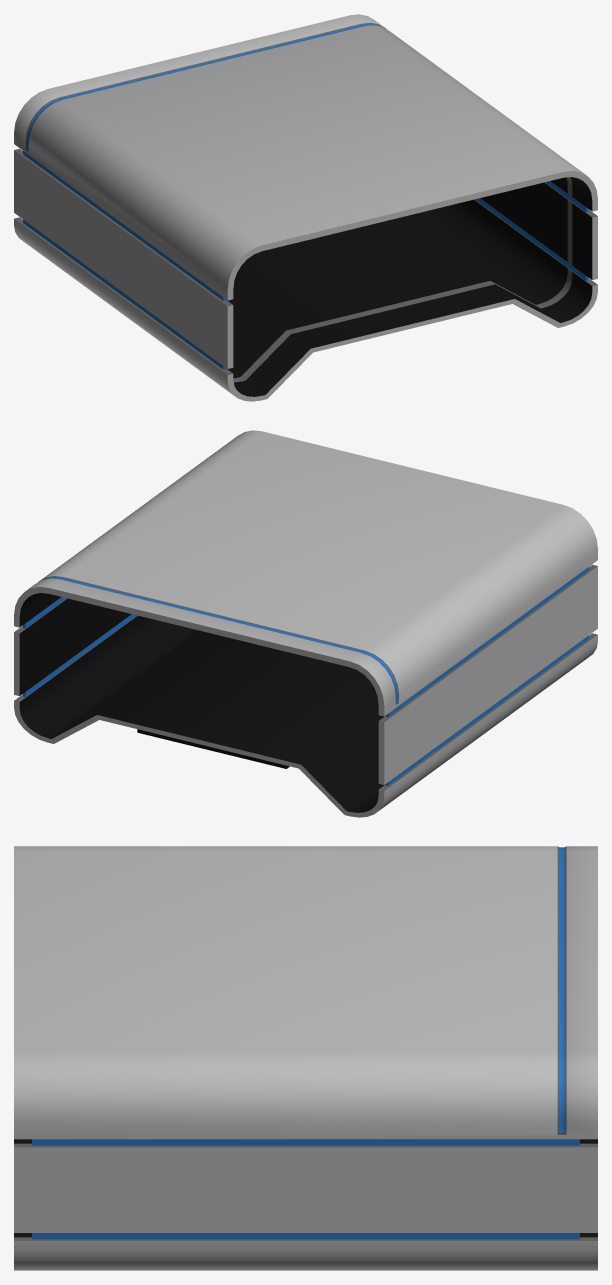
The model's file is W_O_Cafe_Chair_001_L0.fbx.
3 renders of one model, top to bottom at view 1: azimuth 30°, elevation 25°; view 2: azimuth 150°, elevation 25°; view 3: azimuth 270°, elevation 25°, orthographic. The views are drawn at different scales.
Parts seen in each view (by area): view 1: W_O_Cafe_Chair_001_L0; view 2: W_O_Cafe_Chair_001_L0; view 3: W_O_Cafe_Chair_001_L0.
Part boxes in pixels (x1,y1,x2,y2): W_O_Cafe_Chair_001_L0: [14, 14, 597, 401]; W_O_Cafe_Chair_001_L0: [14, 430, 597, 817]; W_O_Cafe_Chair_001_L0: [14, 846, 597, 1270].
Bounding box in the file's own units: 0.65 × 0.26 × 0.65.
